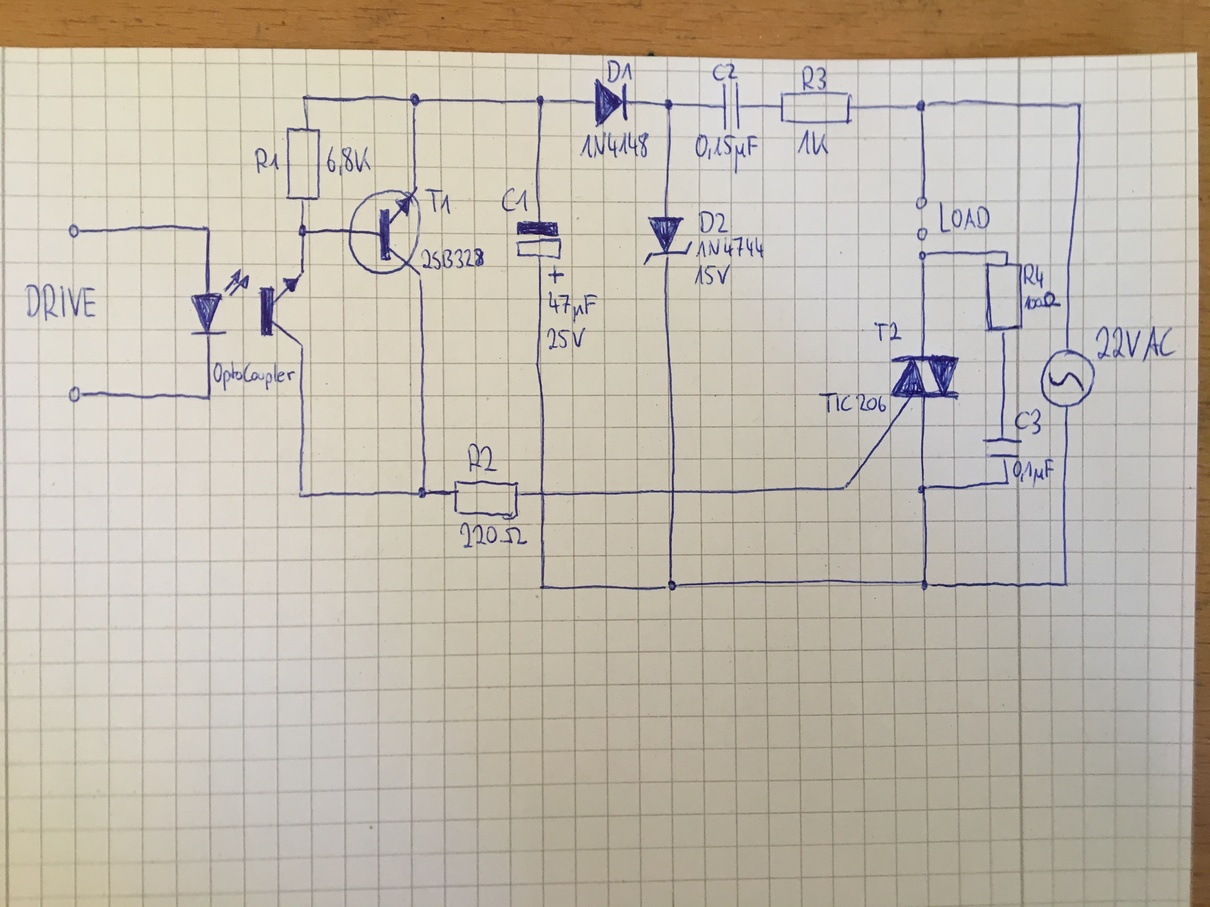capacitor.polarized: (514, 219, 566, 285)
capacitor.unpolarized: (719, 81, 745, 131), (980, 435, 1026, 461)
crossover: (536, 487, 549, 500), (668, 486, 679, 498)
diode: (641, 215, 694, 268), (593, 77, 629, 128)
junction: (534, 93, 552, 112), (913, 98, 932, 115), (408, 91, 423, 111), (663, 578, 682, 593), (662, 97, 678, 114), (918, 578, 936, 592), (416, 484, 430, 501), (916, 250, 929, 264), (916, 483, 929, 496), (1073, 99, 1086, 112), (299, 91, 311, 105), (295, 487, 307, 501), (297, 223, 308, 238), (202, 223, 214, 236), (537, 582, 549, 594), (1061, 579, 1073, 590), (203, 392, 215, 403), (840, 483, 851, 493), (1002, 478, 1013, 487), (1002, 247, 1012, 256)
optocoupler: (188, 267, 306, 349)
resistor: (983, 261, 1026, 336), (284, 125, 323, 204), (777, 88, 854, 127), (453, 479, 520, 521)
terminal: (66, 384, 87, 405), (65, 222, 84, 240), (915, 226, 928, 251), (914, 194, 929, 212)
text: (21, 281, 100, 324), (1094, 324, 1178, 363), (694, 132, 760, 175), (212, 359, 297, 392), (578, 130, 651, 160), (458, 521, 528, 550), (937, 199, 992, 235), (546, 289, 598, 324), (695, 235, 766, 260), (420, 246, 487, 272), (817, 391, 888, 415), (325, 144, 373, 177), (1012, 458, 1055, 489), (795, 127, 832, 157), (466, 442, 500, 474), (545, 326, 587, 351), (693, 262, 733, 288), (423, 186, 455, 217), (1013, 407, 1044, 436), (252, 146, 281, 176), (500, 186, 530, 215), (697, 209, 730, 235), (800, 64, 829, 91), (1024, 291, 1062, 311), (606, 58, 635, 84), (872, 320, 903, 344), (1023, 262, 1046, 290), (711, 61, 740, 82)
transistor: (347, 187, 422, 280)
triac: (887, 351, 964, 405)
voltage.dc_ac: (1038, 347, 1097, 409)
